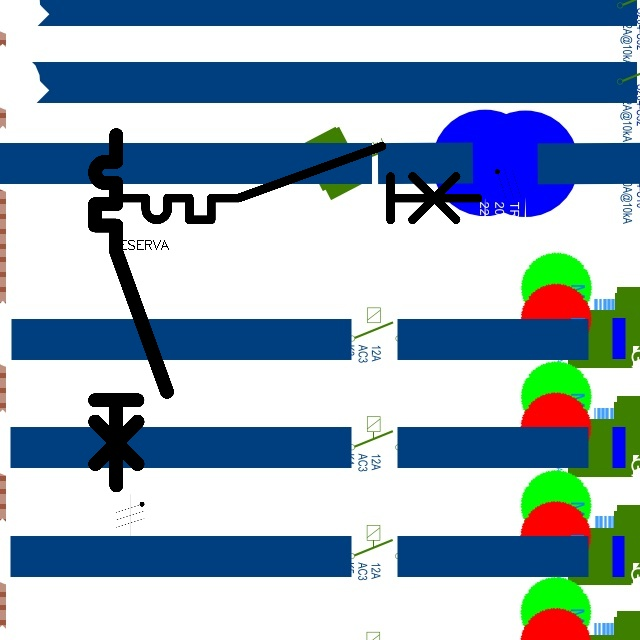interruptor_termomagnetico: (109, 137, 487, 229), (86, 126, 176, 494)
